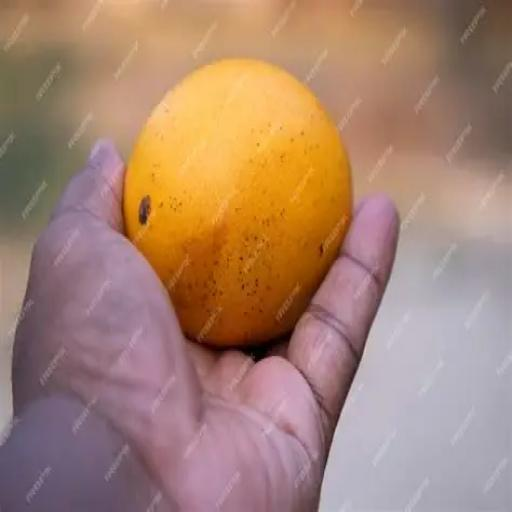mango: (125, 61, 352, 346)
